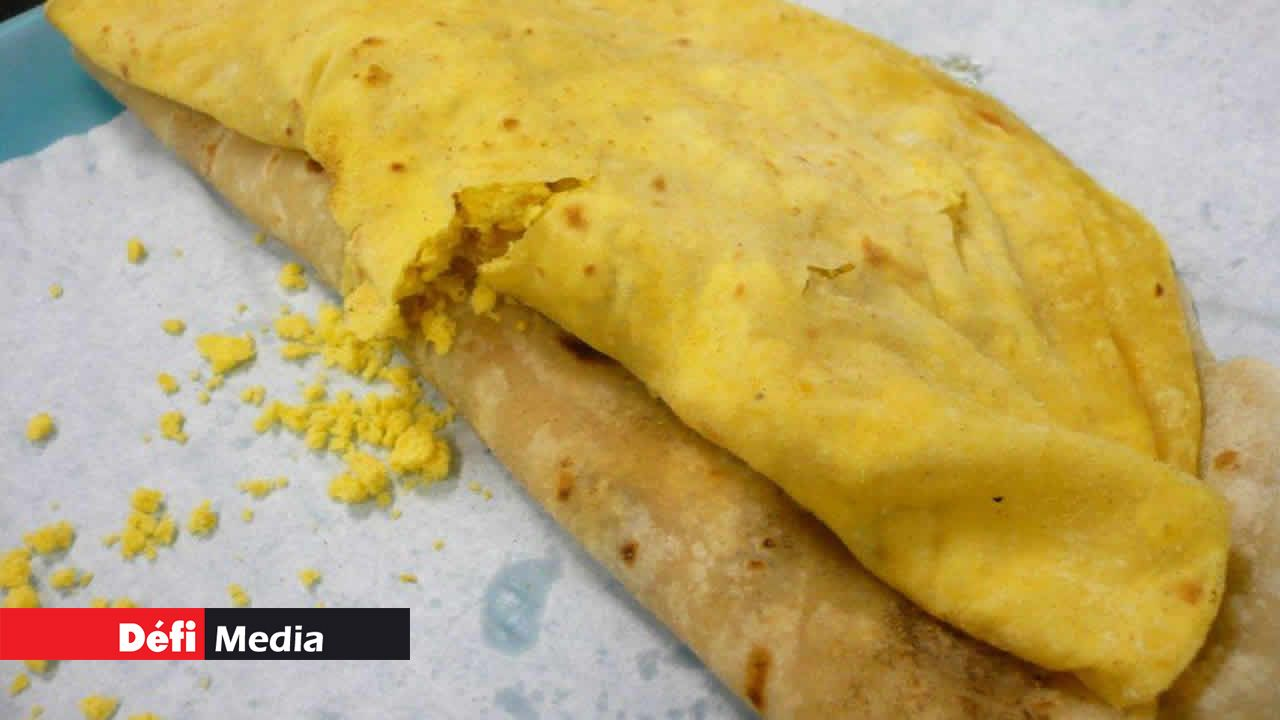Farata: (24, 12, 1226, 696)
